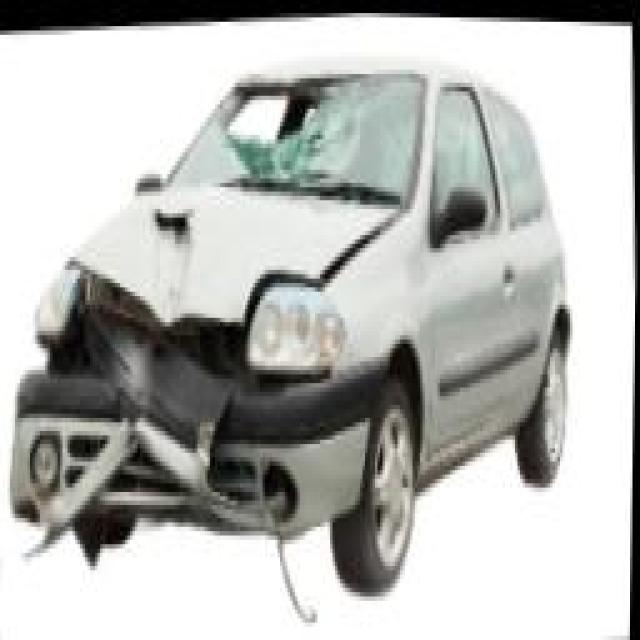Bonnet: (62, 176, 406, 326)
Bumper: (4, 360, 382, 538)
Light: (34, 259, 82, 337)
Windshield: (162, 57, 427, 195)
